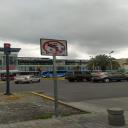NoVirarEsquerda: (40, 35, 72, 60)
